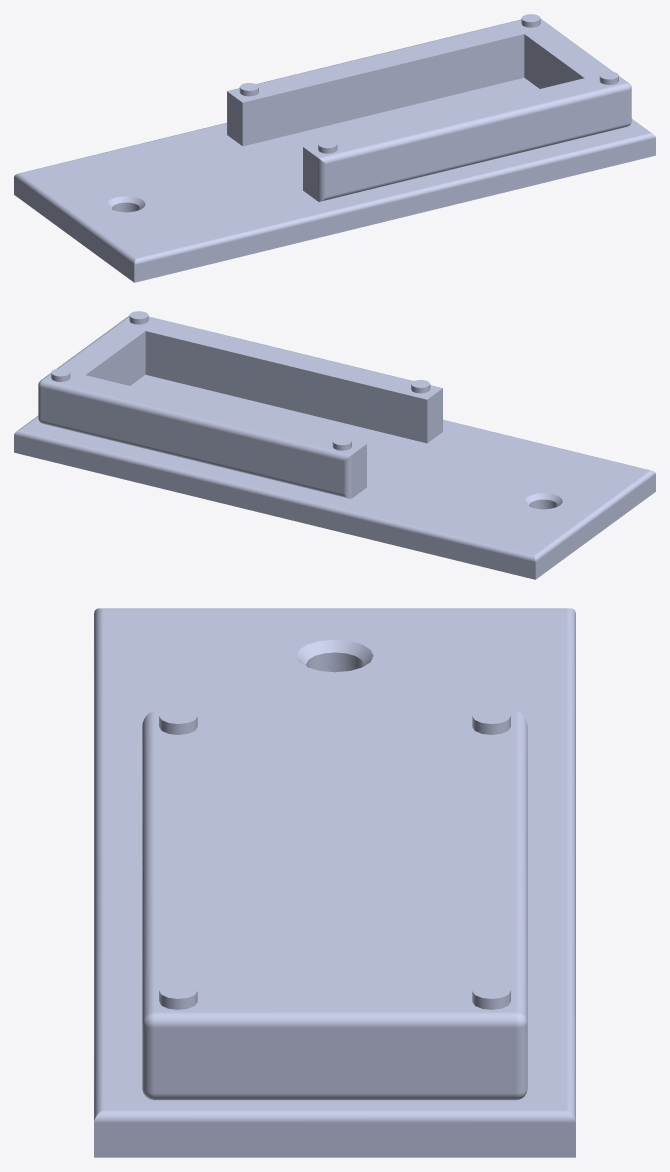
3 views of the same model, one above another, from view 1: azimuth 30°, elevation 25°; view 2: azimuth 150°, elevation 25°; view 3: azimuth 270°, elevation 25° (orthographic). The views are drawn at different scales.
Visible parts, largest first — view 1: mesh 1 merged_base; view 2: mesh 1 merged_base; view 3: mesh 1 merged_base.
Boxes of the visible parts, <box> form: mesh 1 merged_base: <box>14,14,655,282</box>; mesh 1 merged_base: <box>14,311,655,579</box>; mesh 1 merged_base: <box>94,608,575,1157</box>.
Size of the model in its own units: 0.25 by 0.0325 by 0.1.
